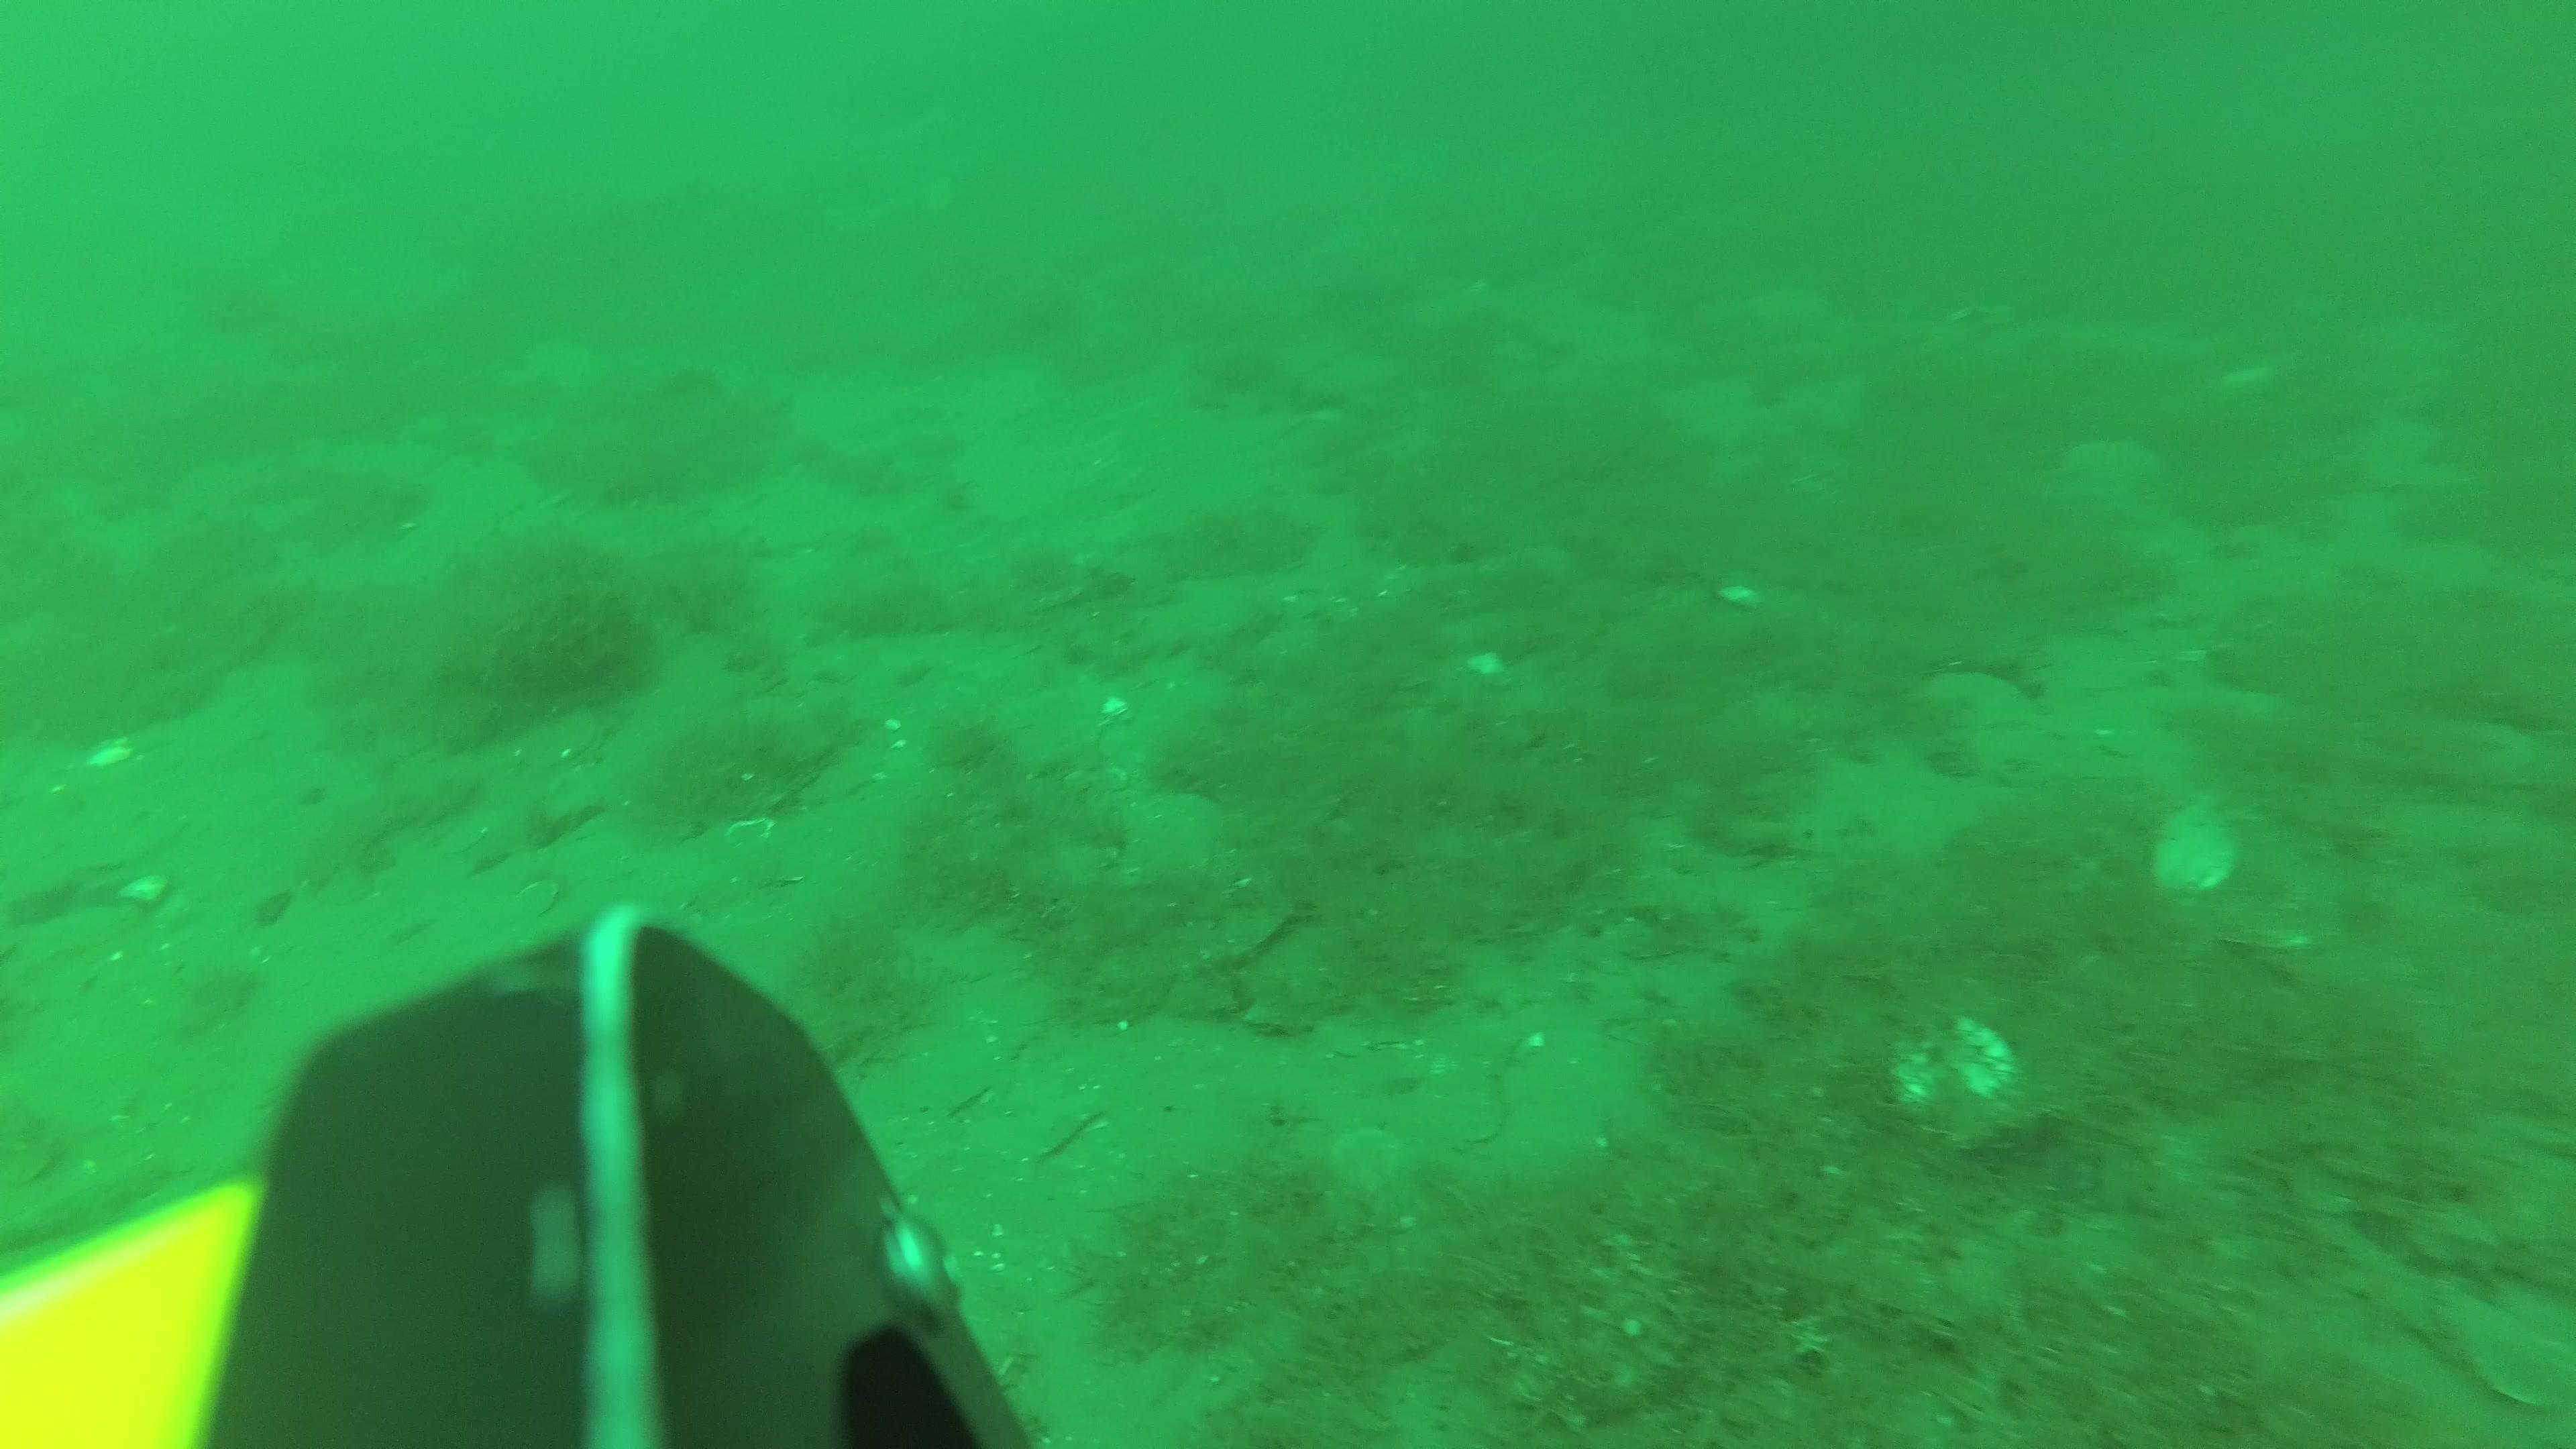scallop: (1888, 1007, 2015, 1154), (2450, 1293, 2576, 1414), (2151, 801, 2243, 897), (1918, 669, 2031, 729), (518, 708, 600, 777), (727, 817, 777, 855)
starfish: (2065, 439, 2162, 499)
